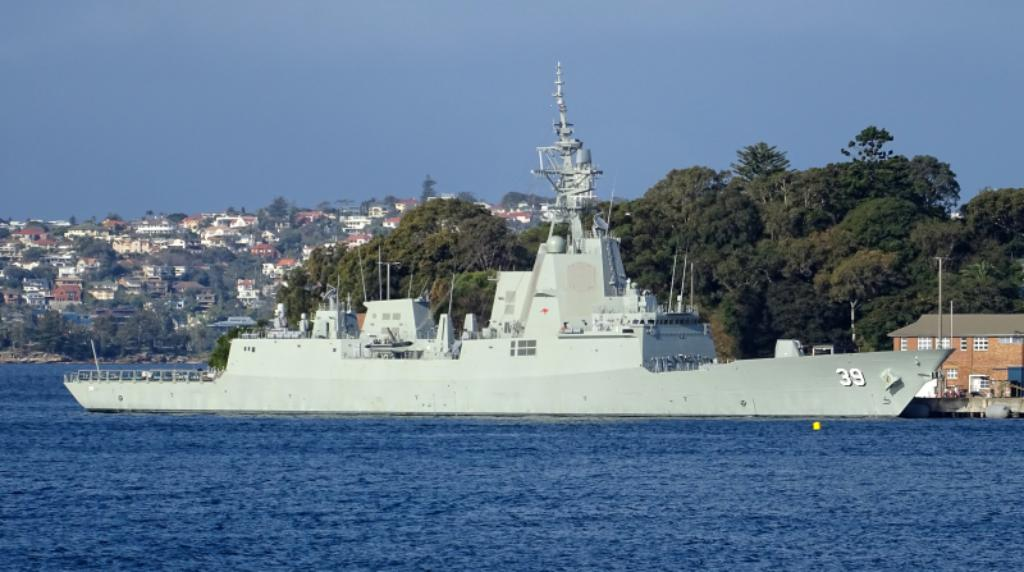Warship: (59, 58, 959, 420)
